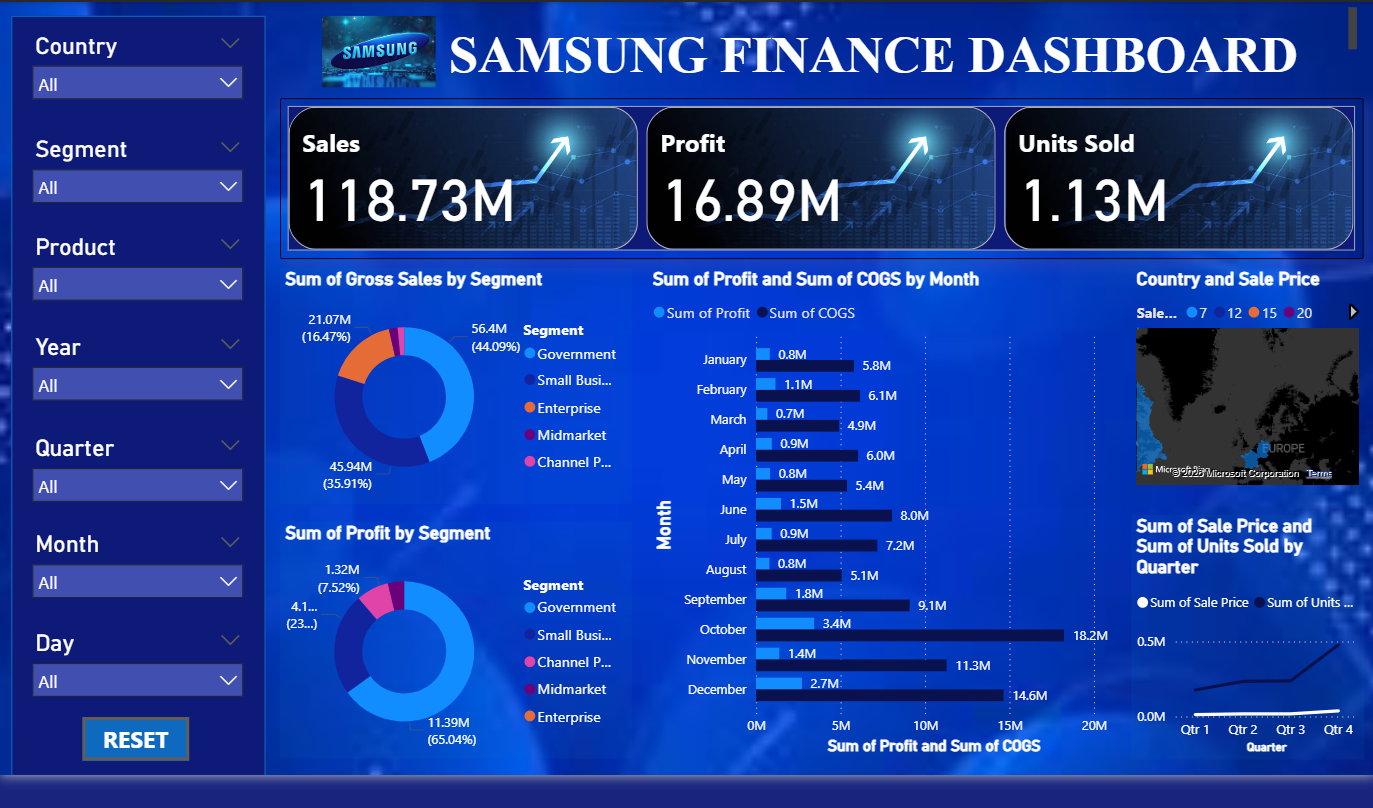

The page's visual inventory and layout, read from the dashboard file:
{"tool":"powerbi","page":{"name":"Dashboard","canvas":[1280,720],"ordinal":0},"visuals":[{"type":"textbox","box":[353.4,0,914.1,89.6],"z":0},{"type":"cardVisual","fields":{"Data":["Sum(financials. Sales)","Sum(financials.Profit)","Sum(financials.Units Sold)"]},"box":[260.8,89.8,1007.8,149.7],"z":1000},{"type":"shape","box":[10,12.5,236.6,707.2],"z":2000},{"type":"clusteredBarChart","fields":{"Category":["financials.Date.Variation.Date Hierarchy.Month"],"Y":["Sum(financials.Profit)","Sum(financials.COGS)"]},"box":[602.6,247.8,449.5,457],"z":3000},{"type":"slicer","fields":{"Values":["financials.Date.Variation.Date Hierarchy.Year"]},"box":[19.6,304.1,216.7,78.4],"z":3000,"group":"g2"},{"type":"filledMap","fields":{"Category":["financials.Country"],"Series":["financials.Sale Price"]},"box":[1052.1,247.8,216.7,206.7],"z":4000},{"type":"slicer","fields":{"Values":["financials.Date.Variation.Date Hierarchy.Quarter"]},"box":[19.6,398.2,216.7,78.4],"z":4000,"group":"g2"},{"type":"lineChart","fields":{"Category":["financials.Date.Variation.Date Hierarchy.Quarter"],"Y":["Sum(financials.Sale Price)","Sum(financials.Units Sold)"]},"box":[1052.1,476.9,216.7,227.9],"z":5000},{"type":"slicer","fields":{"Values":["financials.Date.Variation.Date Hierarchy.Month"]},"box":[19.6,487.7,216.7,78.4],"z":5000,"group":"g2"},{"type":"slicer","fields":{"Values":["financials.Date.Variation.Date Hierarchy.Day"]},"box":[19.6,578.6,216.7,78.4],"z":6000,"group":"g2"},{"type":"actionButton","box":[77.3,665,99.4,40.5],"z":6000},{"type":"image","box":[260.2,8.7,184.3,76],"z":7000},{"type":"slicer","fields":{"Values":["financials.Product"]},"box":[19.6,210,216.7,78.4],"z":7000,"group":"g2"},{"type":"donutChart","fields":{"Category":["financials.Segment"],"Y":["Sum(financials.Gross Sales)"]},"box":[260.2,247.8,327.5,219.1],"z":7000,"group":"g1"},{"type":"slicer","fields":{"Values":["financials.Segment"]},"box":[19.6,120.2,216.7,78.4],"z":8000,"group":"g2"},{"type":"group","id":"g1","title":"Group 1","box":[260.2,247.8,327.5,457],"z":8000},{"type":"group","id":"g2","title":"Group 2","box":[19.6,23.3,217.2,633.1],"z":9000},{"type":"slicer","fields":{"Values":["financials.Country"]},"box":[19.6,23.3,216.7,78.4],"z":9000,"group":"g2"},{"type":"donutChart","fields":{"Category":["financials.Segment"],"Y":["Sum(financials.Profit)"]},"box":[260.2,484.4,327.5,220.4],"z":11000,"group":"g1"}]}

Visuals, with their boxes on the page's 1280x720 design canvas (x1, y1, x2, y2). These are canvas units, not pixel positions in the 1373x808 screenshot, which may show the page scaled, cropped or inside an application window:
textbox: 353, 0, 1268, 90
cardVisual - Sum(financials. Sales) x Sum(financials.Profit): 261, 90, 1269, 240
shape: 10, 12, 247, 720
clusteredBarChart - financials.Date.Variation.Date Hierarchy.Month x Sum(financials.Profit): 603, 248, 1052, 705
slicer - financials.Date.Variation.Date Hierarchy.Year: 20, 304, 236, 382
filledMap - financials.Country x financials.Sale Price: 1052, 248, 1269, 454
slicer - financials.Date.Variation.Date Hierarchy.Quarter: 20, 398, 236, 477
lineChart - financials.Date.Variation.Date Hierarchy.Quarter x Sum(financials.Sale Price): 1052, 477, 1269, 705
slicer - financials.Date.Variation.Date Hierarchy.Month: 20, 488, 236, 566
slicer - financials.Date.Variation.Date Hierarchy.Day: 20, 579, 236, 657
actionButton: 77, 665, 177, 706
image: 260, 9, 444, 85
slicer - financials.Product: 20, 210, 236, 288
donutChart - financials.Segment x Sum(financials.Gross Sales): 260, 248, 588, 467
slicer - financials.Segment: 20, 120, 236, 199
"Group 1" group: 260, 248, 588, 705
"Group 2" group: 20, 23, 237, 656
slicer - financials.Country: 20, 23, 236, 102
donutChart - financials.Segment x Sum(financials.Profit): 260, 484, 588, 705
